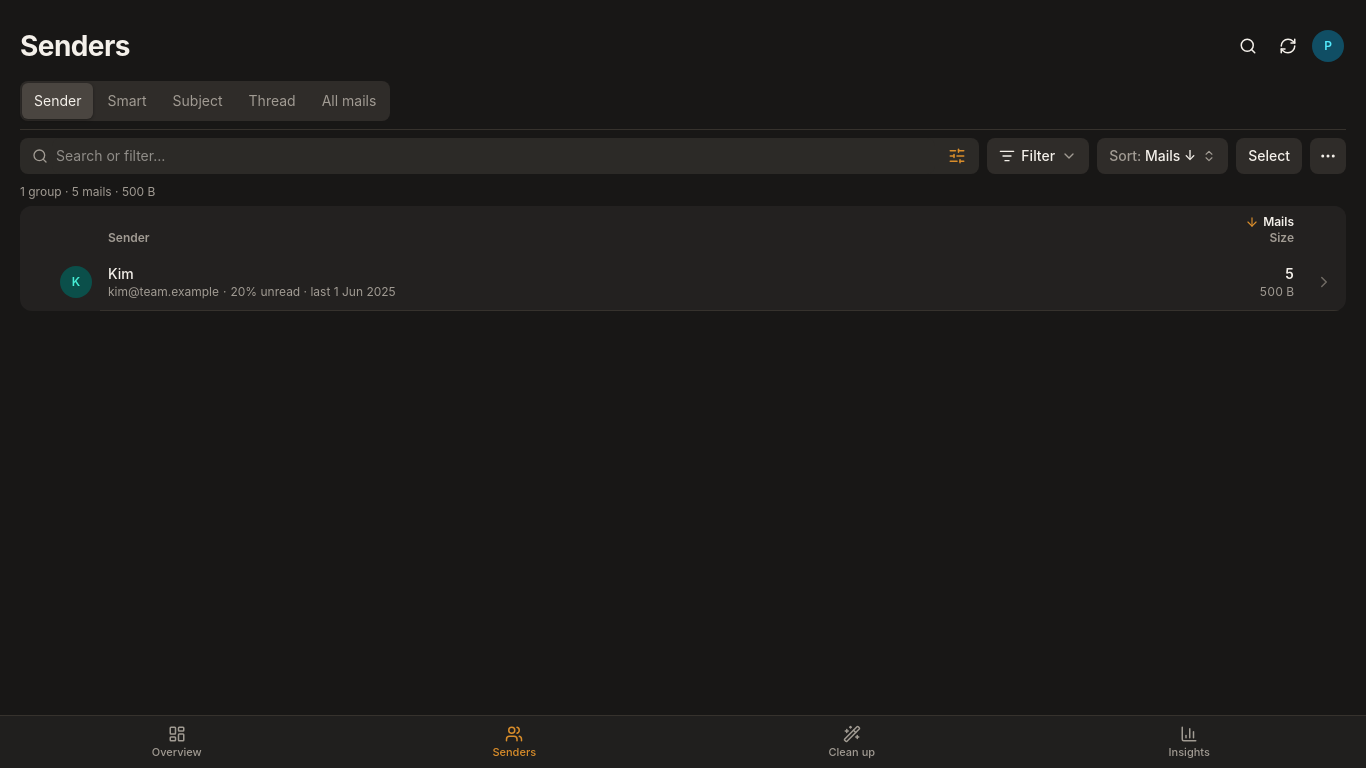
it: a conversation that was muted meanwhile is not muted twice
expect the button "Kim" is shown: met, box [108,264,134,284]
Click the tab "Thread" at (272, 101), box [237,83,308,119]
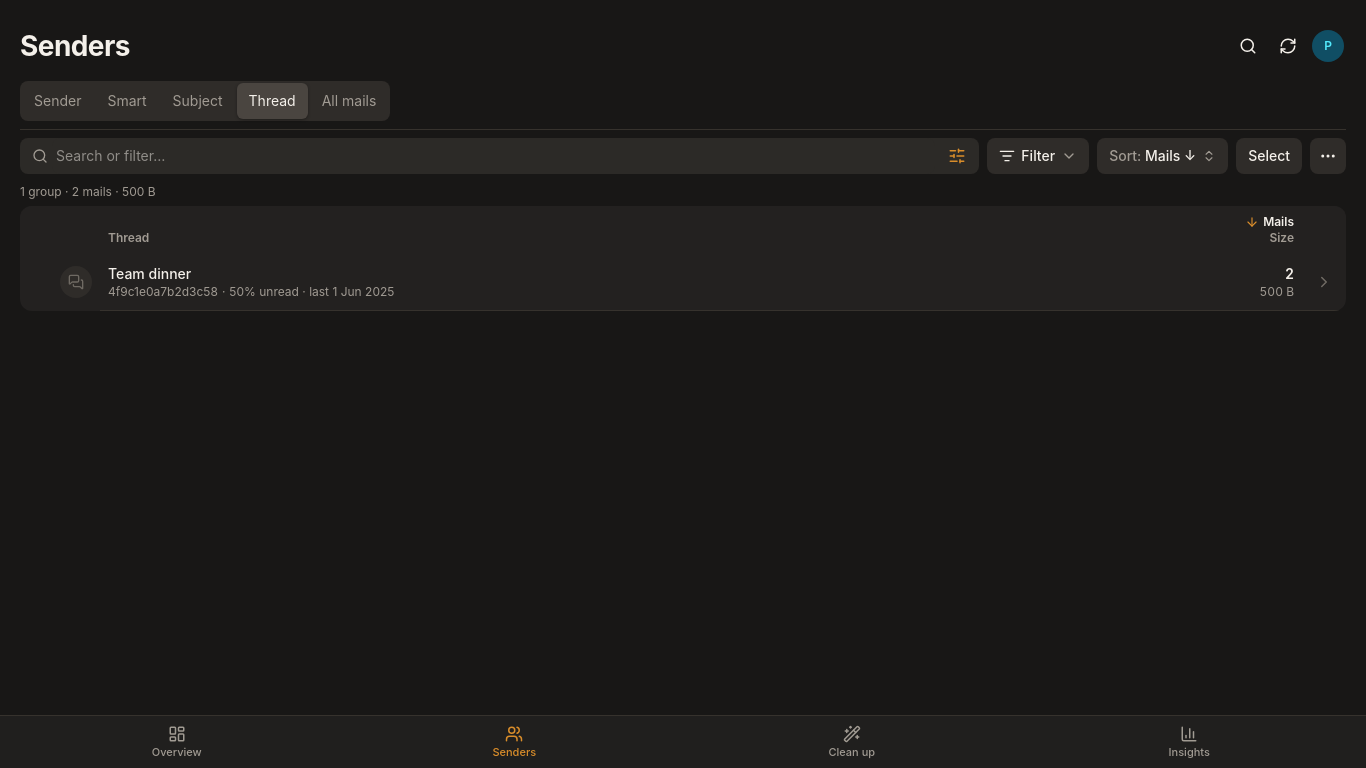
Click the button "Team dinner" at (150, 274), box [108,264,191,284]
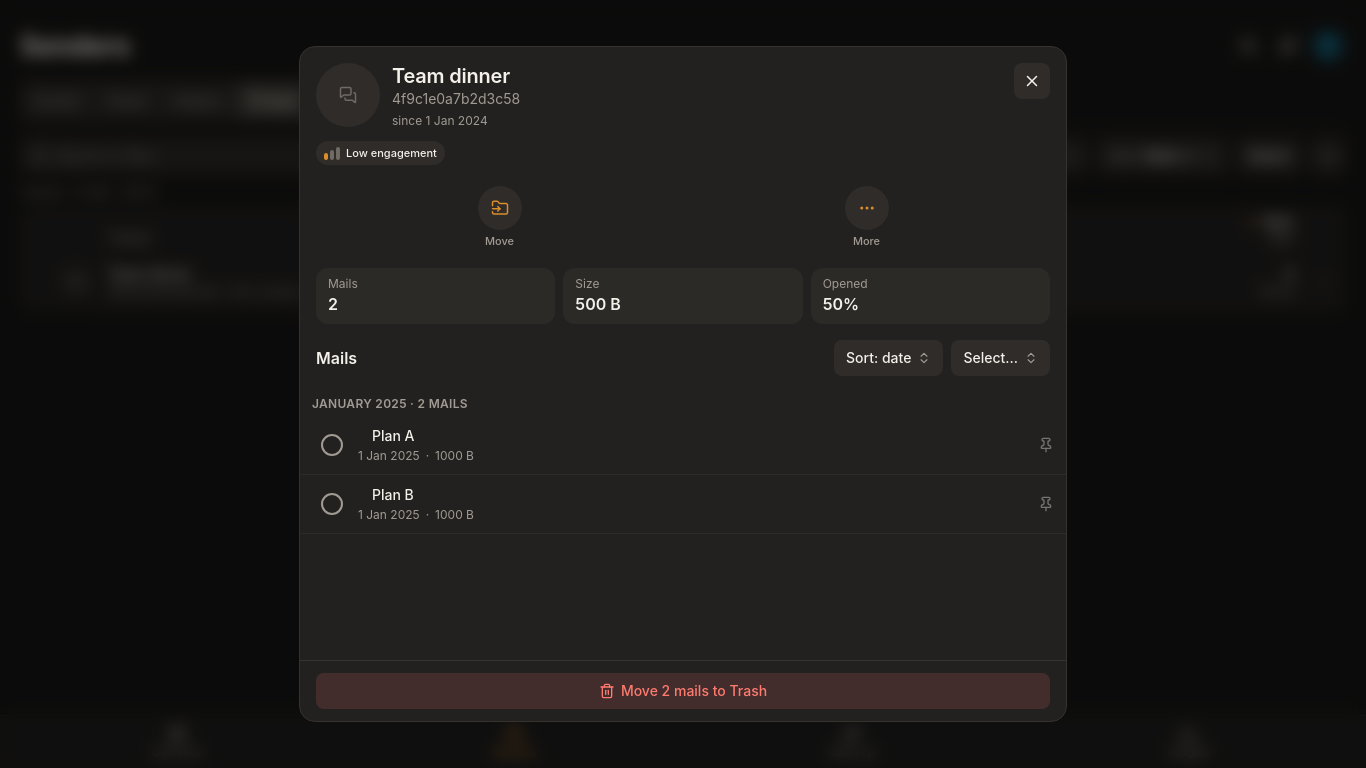
expect the text "Plan A" is shown: met, box [372,426,414,446]
Click the button "More" at (866, 217), box [840,182,892,252]
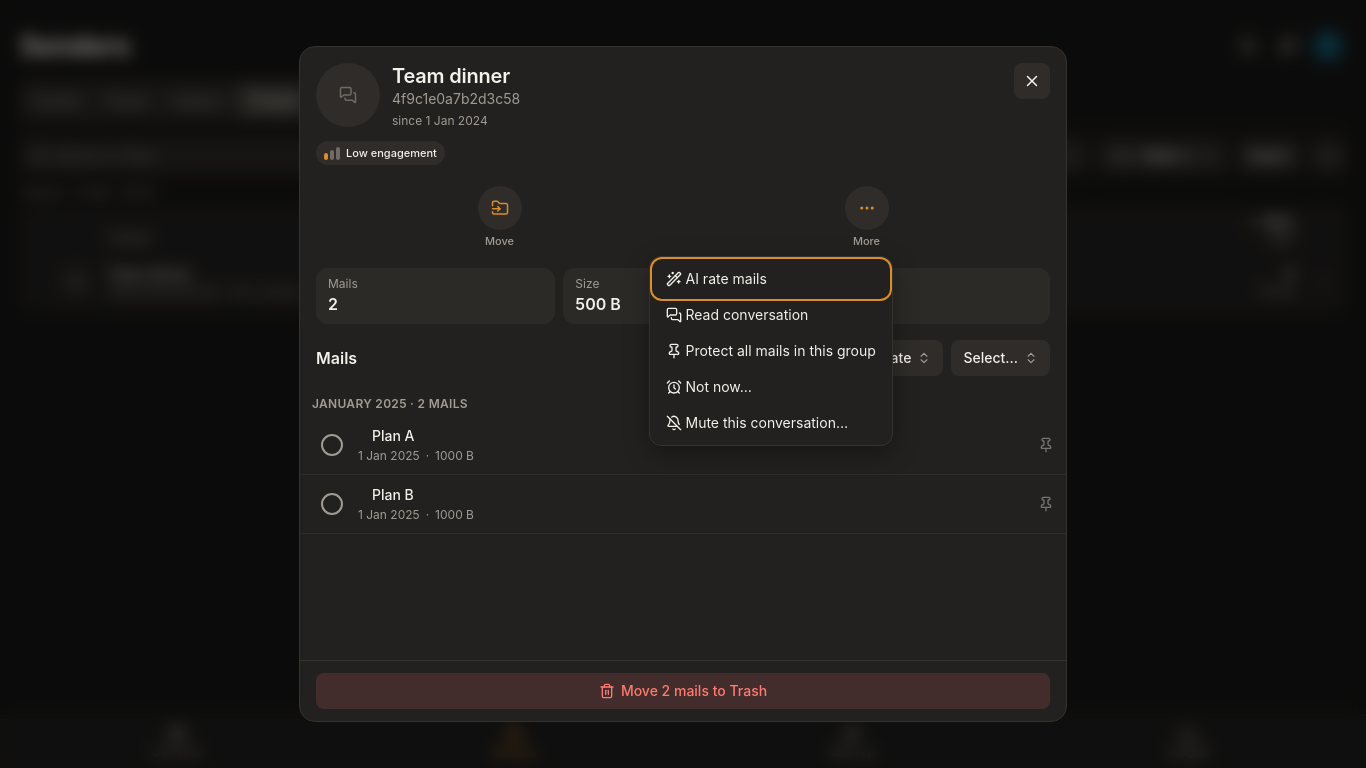
Click the menu item "Mute this conversation…" at (771, 423), box [654,405,888,441]
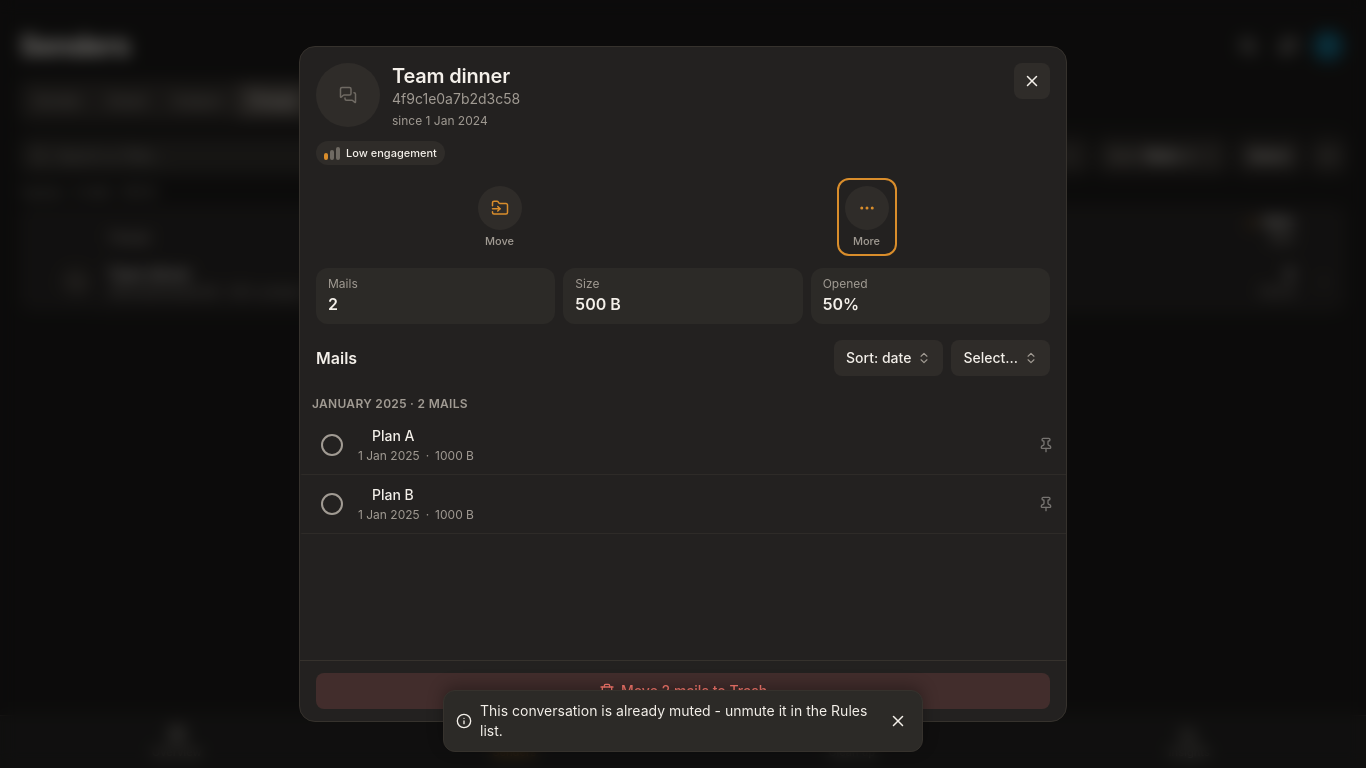
expect the text "already muted" is shown: met, box [480,702,867,739]
